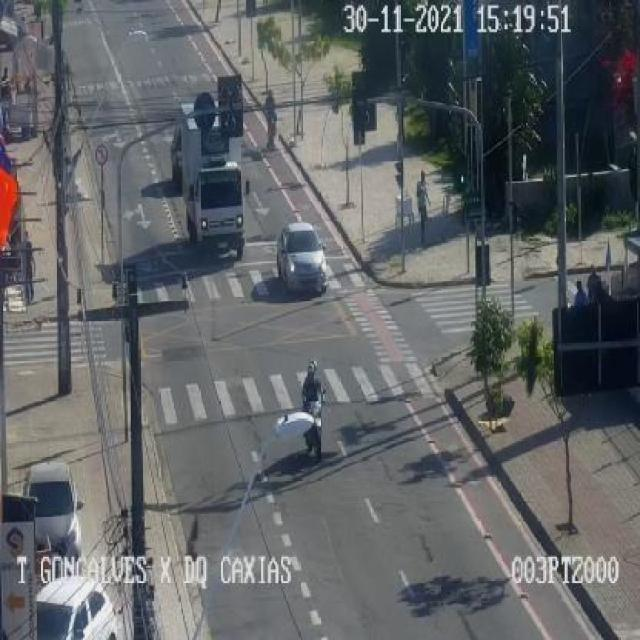Car: (14, 563, 139, 640), (5, 451, 92, 559), (267, 209, 336, 301)
Cycle: (280, 361, 340, 459)
Truck: (162, 101, 262, 264)
